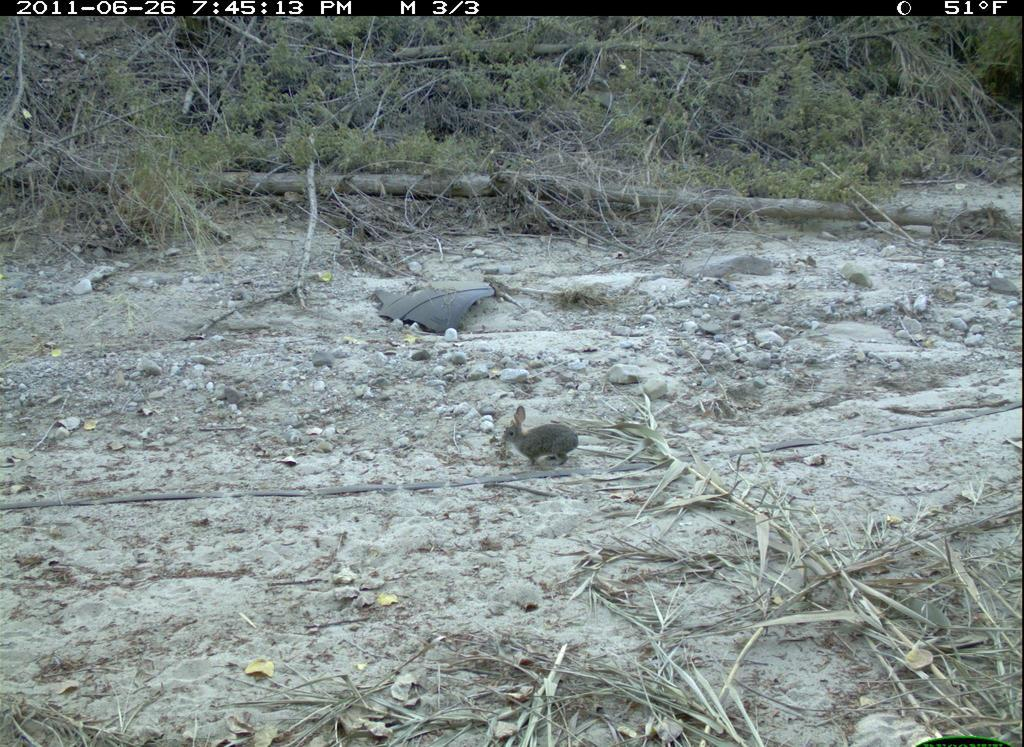rabbit: (495, 402, 594, 477)
